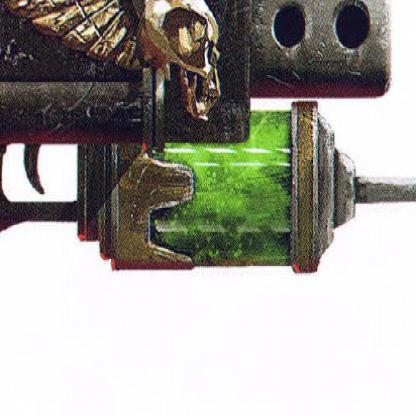gun: (0, 0, 384, 415)
